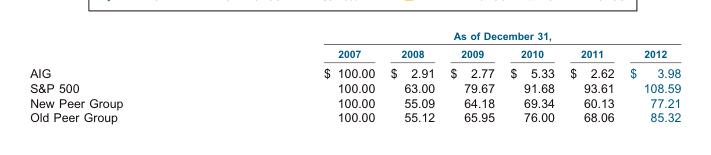table: (29, 29, 680, 124)
table column: (29, 29, 222, 124), (222, 29, 382, 124), (441, 29, 501, 124), (501, 29, 561, 124), (561, 29, 621, 124), (382, 29, 441, 124), (621, 29, 680, 124)
table column header: (29, 29, 680, 62)
table row: (29, 44, 680, 62), (29, 62, 680, 79), (29, 29, 680, 44), (29, 79, 680, 94), (29, 94, 680, 109), (29, 109, 680, 124)
table spanning cell: (222, 29, 680, 44)
